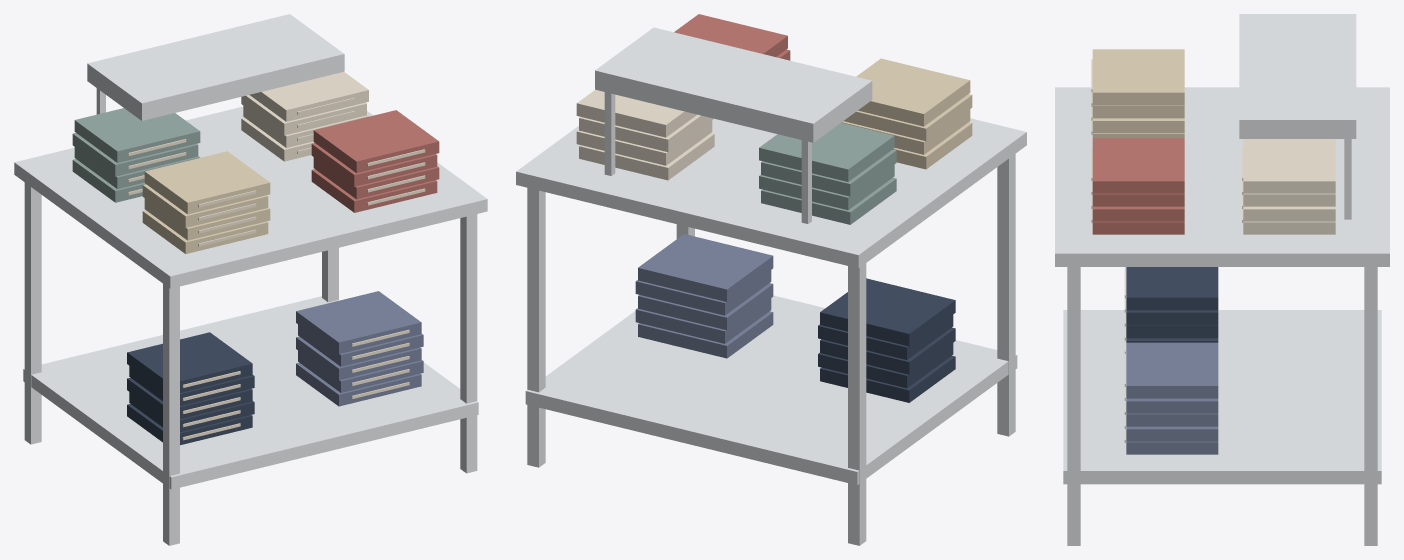
File: shelf-clothing-table.glb
3 views of the same model, side by side, from view 1: azimuth 30°, elevation 25°; view 2: azimuth 150°, elevation 25°; view 3: azimuth 270°, elevation 25° (orthographic). The views are drawn at different scales.
Visible parts, largest first — view 1: folded-clothing-deck (×3), fixture-upright (×4), stock-packages_7e89a4, stock-packages_e6d8be, stock-packages_c17b73, stock-packages_404e64, stock-packages_9aafaa, stock-packages_f1e8d8, stock-details_f4ead9; view 2: folded-clothing-deck (×3), fixture-upright (×3), stock-packages_7e89a4, stock-packages_404e64, stock-packages_9aafaa, stock-packages_e6d8be, stock-packages_f1e8d8, stock-packages_c17b73, table-riser (×2); view 3: folded-clothing-deck (×3), stock-packages_7e89a4, stock-packages_c17b73, stock-packages_f1e8d8, stock-packages_e6d8be, fixture-upright (×2), stock-packages_404e64, stock-details_f4ead9, table-riser.
Boxes of the visible parts, x1=… form: folded-clothing-deck (×3): x1=14, y1=14, x2=487, y2=489; fixture-upright (×4): x1=24, y1=182, x2=477, y2=545; stock-packages_7e89a4: x1=296, y1=291, x2=423, y2=406; stock-packages_e6d8be: x1=142, y1=151, x2=270, y2=253; stock-packages_c17b73: x1=311, y1=110, x2=439, y2=212; stock-packages_404e64: x1=127, y1=332, x2=254, y2=445; stock-packages_9aafaa: x1=72, y1=108, x2=200, y2=202; stock-packages_f1e8d8: x1=241, y1=72, x2=368, y2=161; stock-details_f4ead9: x1=128, y1=98, x2=425, y2=440; folded-clothing-deck (×3): x1=516, y1=27, x2=1026, y2=485; fixture-upright (×3): x1=527, y1=154, x2=1015, y2=545; stock-packages_7e89a4: x1=635, y1=234, x2=773, y2=358; stock-packages_404e64: x1=818, y1=278, x2=955, y2=402; stock-packages_9aafaa: x1=759, y1=122, x2=896, y2=224; stock-packages_e6d8be: x1=841, y1=58, x2=972, y2=169; stock-packages_f1e8d8: x1=576, y1=89, x2=714, y2=180; stock-packages_c17b73: x1=674, y1=14, x2=790, y2=60; table-riser (×2): x1=604, y1=92, x2=811, y2=223; folded-clothing-deck (×3): x1=1055, y1=14, x2=1389, y2=484; stock-packages_7e89a4: x1=1126, y1=342, x2=1218, y2=454; stock-packages_c17b73: x1=1092, y1=138, x2=1184, y2=234; stock-packages_f1e8d8: x1=1243, y1=139, x2=1335, y2=234; stock-packages_e6d8be: x1=1092, y1=49, x2=1184, y2=137; fixture-upright (×2): x1=1067, y1=267, x2=1377, y2=545; stock-packages_404e64: x1=1126, y1=267, x2=1218, y2=342; stock-details_f4ead9: x1=1091, y1=59, x2=1243, y2=442; table-riser: x1=1344, y1=139, x2=1351, y2=219.
Bounding box in the file's own units: 0.94 × 1.05 × 0.8.
